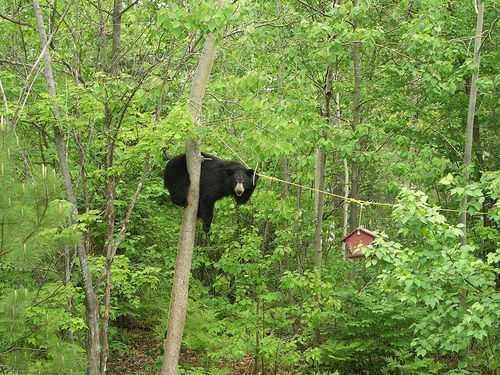bear: (146, 121, 274, 249)
